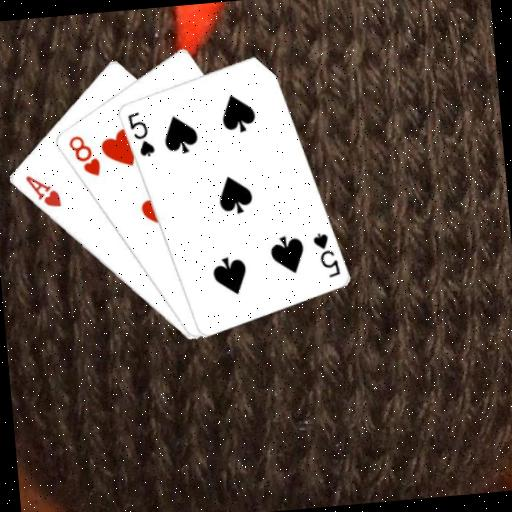5S: (309, 228, 342, 281), (124, 107, 157, 159)
8H: (64, 131, 103, 181)
AH: (21, 170, 63, 212)
